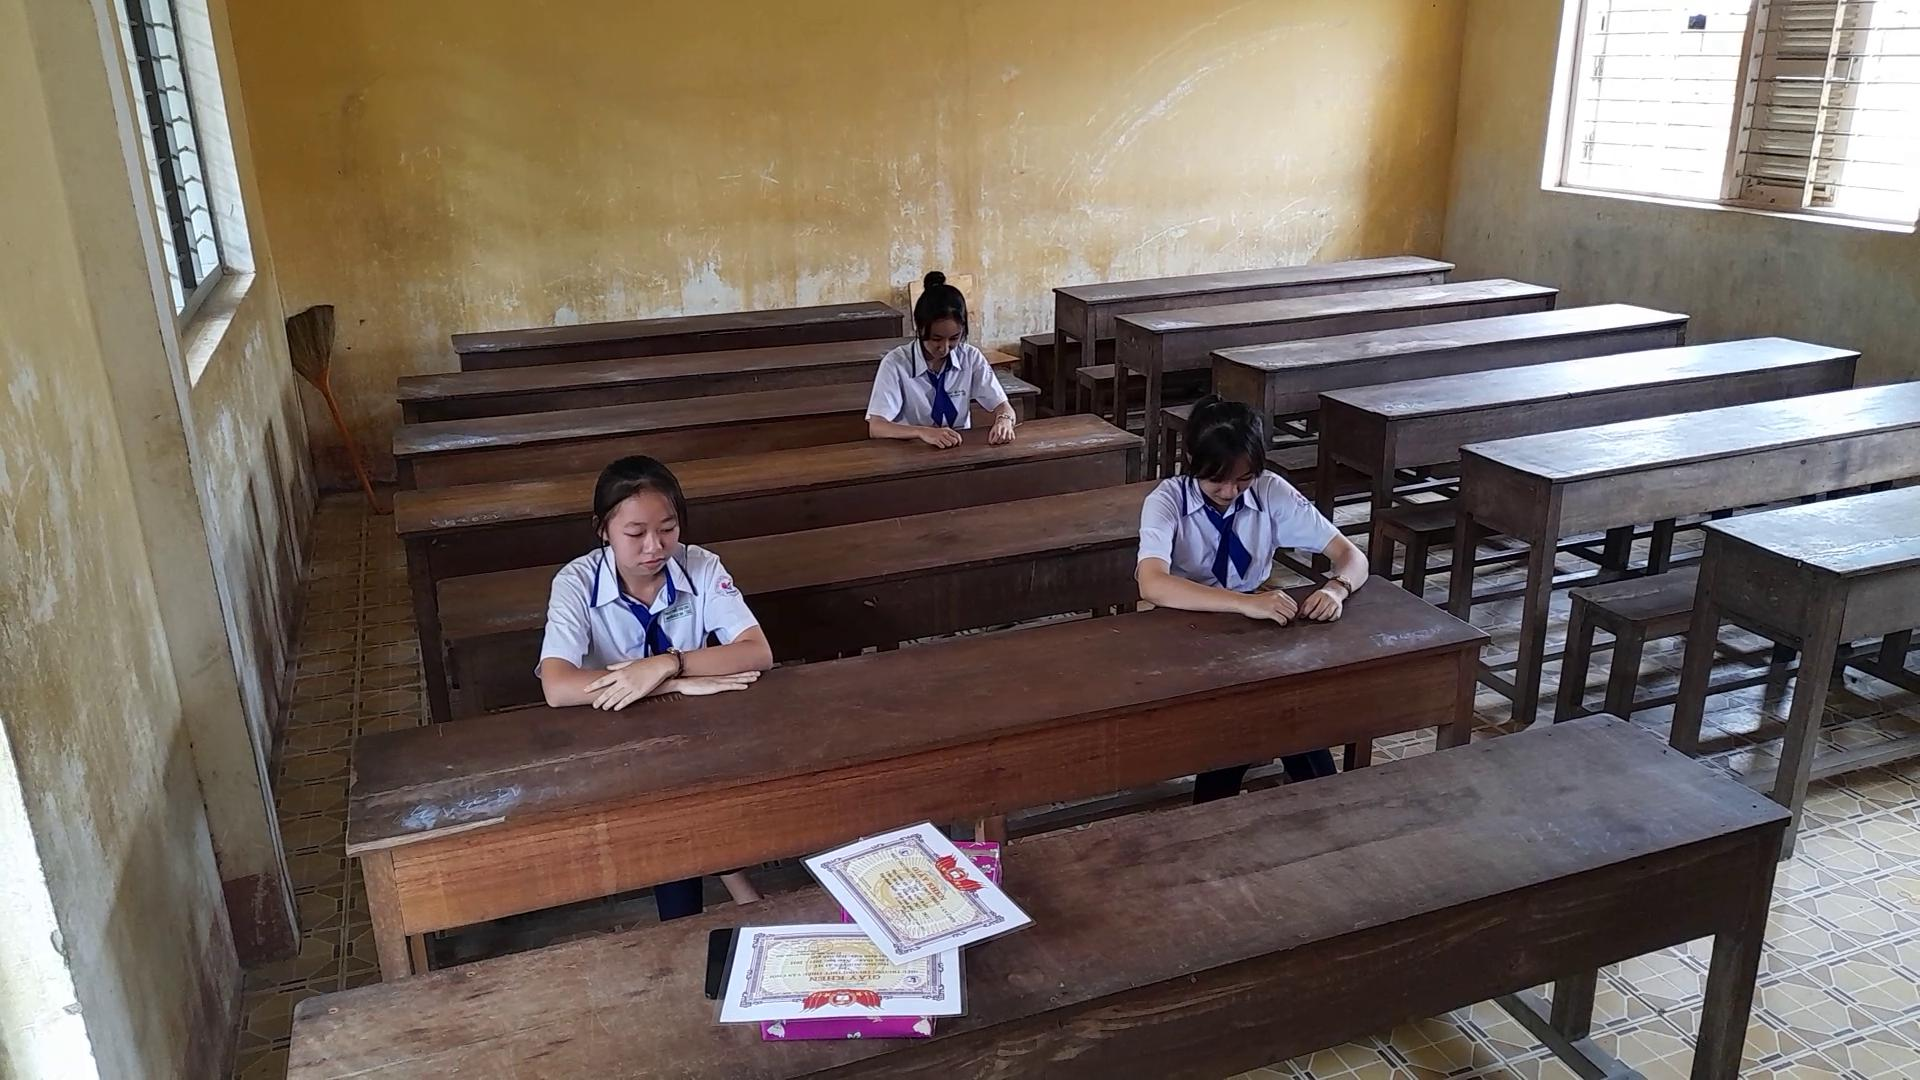Bend Over The Desk: (1160, 378, 1284, 516), (884, 247, 1007, 382)
Normal: (526, 443, 782, 717)
